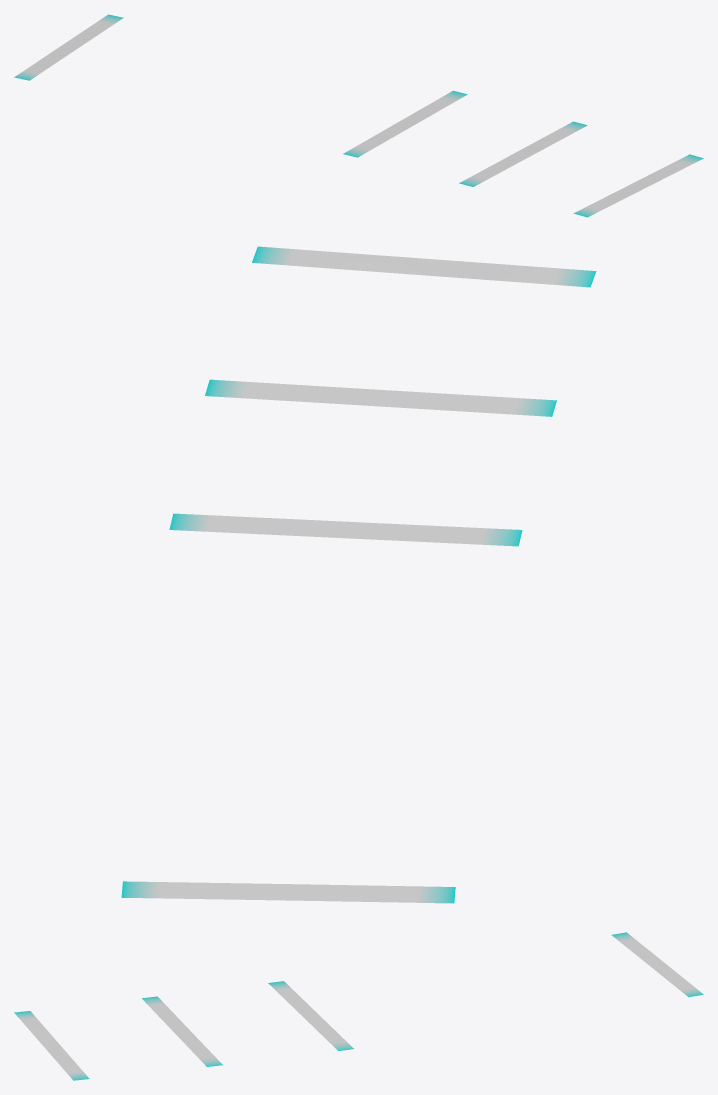
3 views of the same model, one above another, from view 1: azimuth 30°, elevation 25°; view 2: azimuth 150°, elevation 25°; view 3: azimuth 270°, elevation 25° (orthographic). The views are drawn at different scales.
Visible parts, largest first — view 1: SpaceCenter_Long3_GenerateRoad_Asphalt_PCGMesh_Decal_Mesh_x1; view 2: SpaceCenter_Long3_GenerateRoad_Asphalt_PCGMesh_Decal_Mesh_x1; view 3: SpaceCenter_Long3_GenerateRoad_Asphalt_PCGMesh_Decal_Mesh_x1.
Part boxes in pixels (box(x1,y1,x2,y2)): SpaceCenter_Long3_GenerateRoad_Asphalt_PCGMesh_Decal_Mesh_x1: box(14, 14, 703, 217); SpaceCenter_Long3_GenerateRoad_Asphalt_PCGMesh_Decal_Mesh_x1: box(121, 246, 596, 903); SpaceCenter_Long3_GenerateRoad_Asphalt_PCGMesh_Decal_Mesh_x1: box(14, 932, 703, 1080).
Size of the model in its own units: 1421 by 891 by 78.57.
